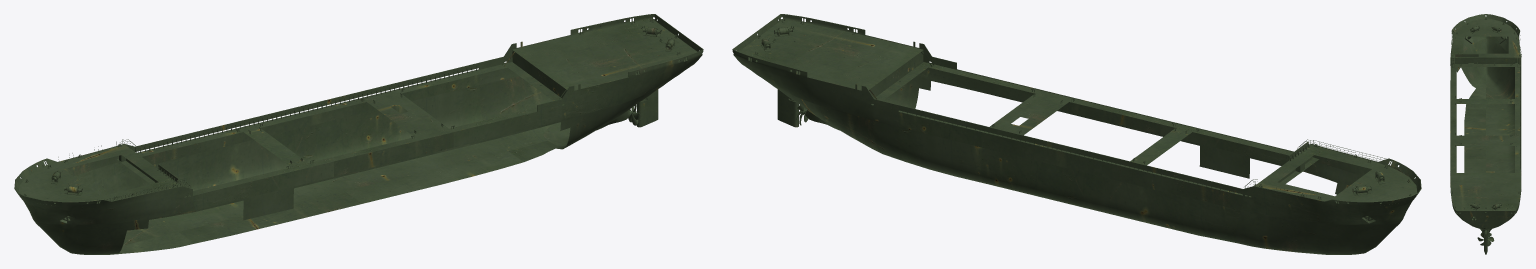
Rendered from Ship shell.fbx.
3 views of the same model, side by side, from view 1: azimuth 30°, elevation 25°; view 2: azimuth 150°, elevation 25°; view 3: azimuth 270°, elevation 25° (orthographic). The views are drawn at different scales.
Parts seen in each view (by area): view 1: model_4; view 2: model_4; view 3: model_4.
Boxes of the visible parts, x1,y1,x2,y2 form: model_4: (14, 14, 703, 254); model_4: (732, 14, 1421, 254); model_4: (1450, 14, 1521, 254).
Bounding box in the file's own units: 13879 × 1740 × 2118.
Materials: 1 (1 with a texture image).
